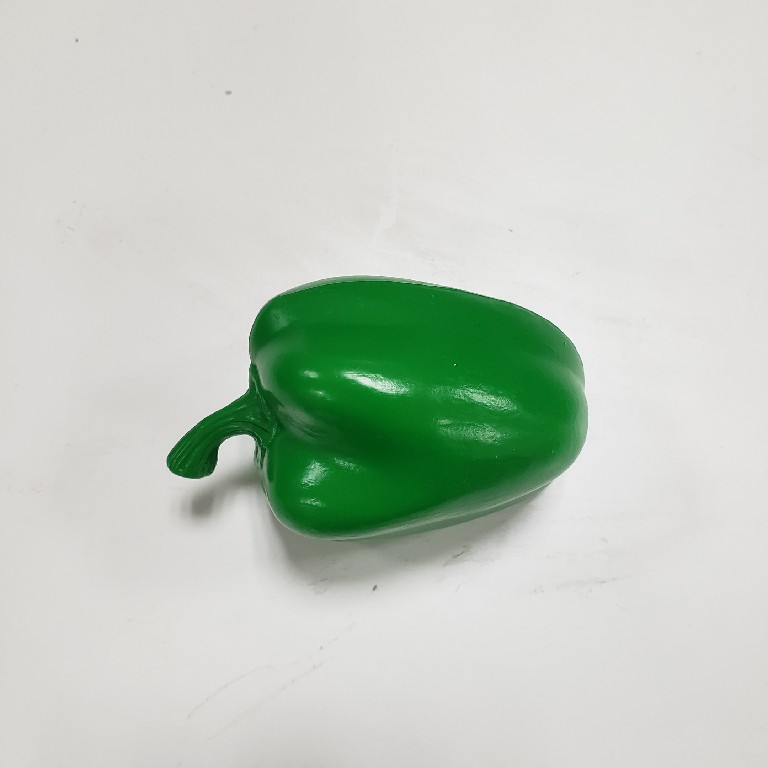fruit_pepper: (160, 270, 601, 550)
